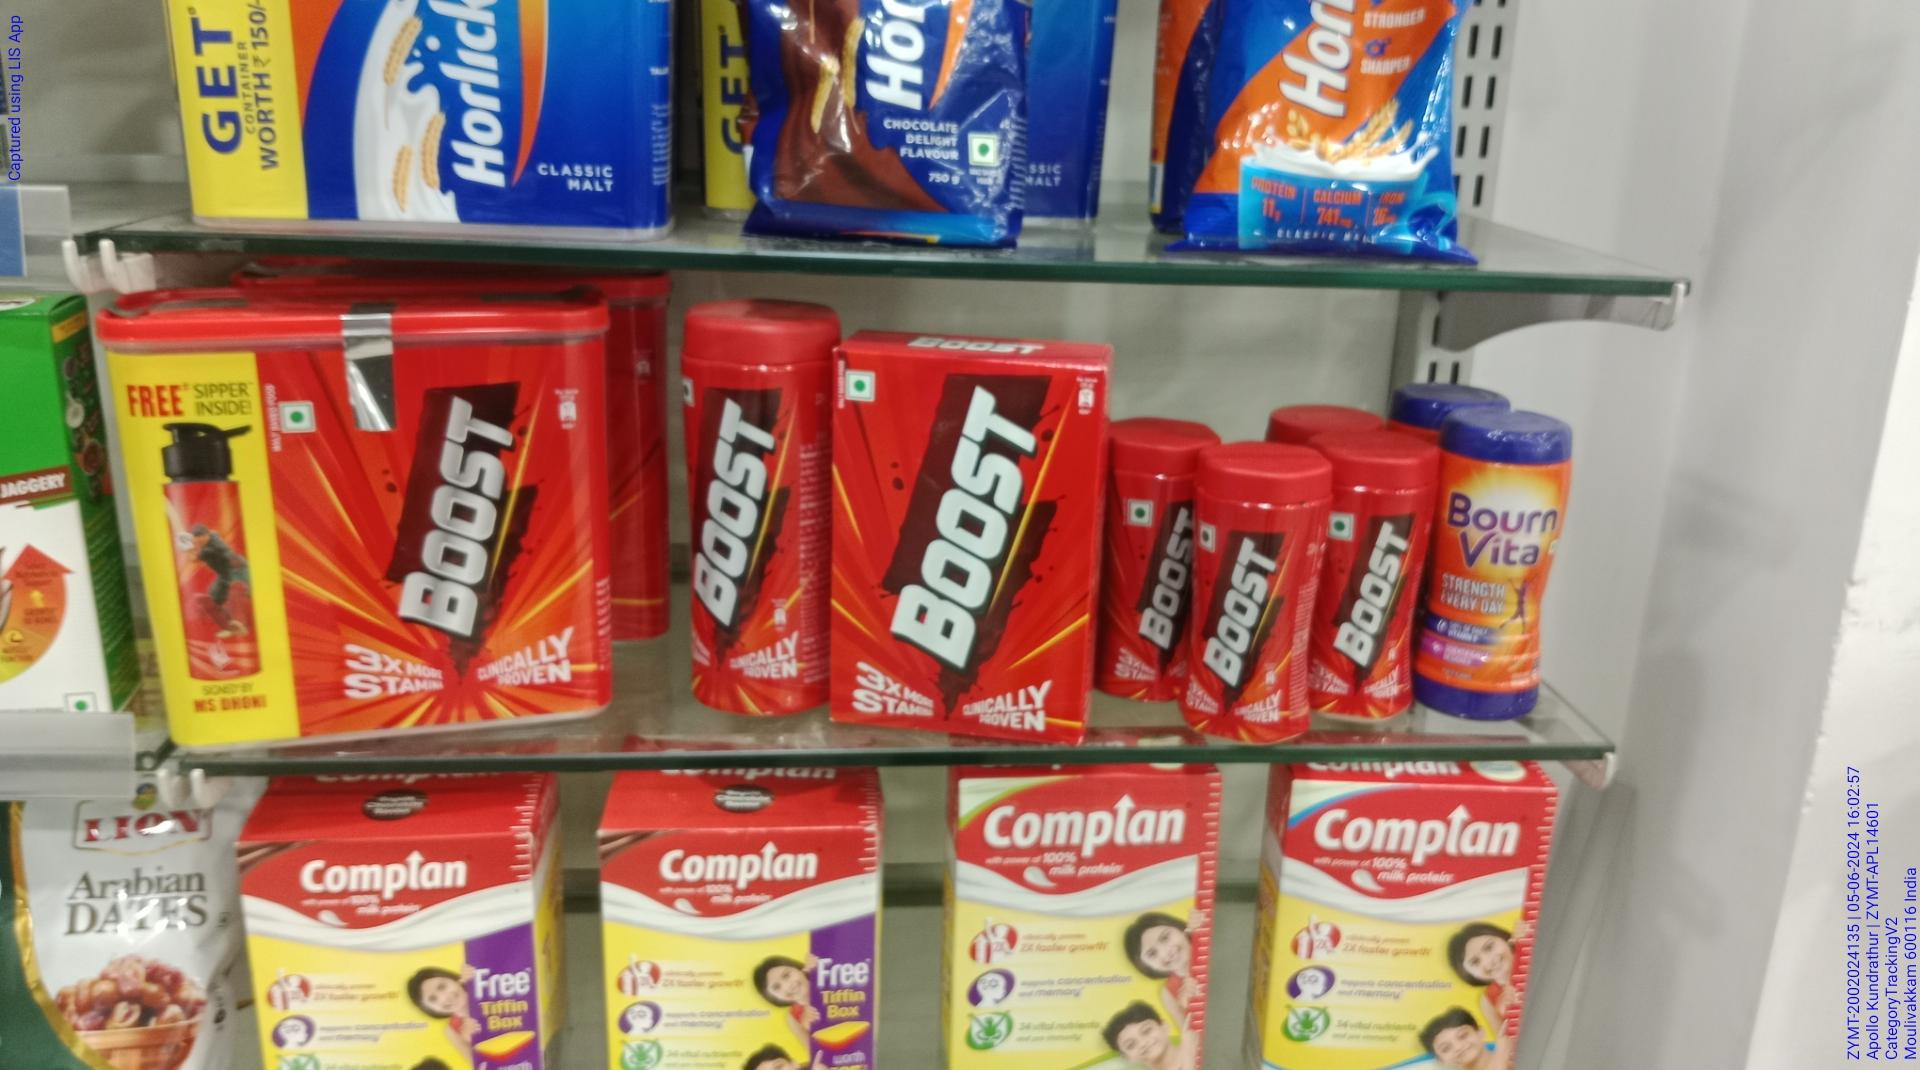BOURN_VITA_500_G_JAR: (1427, 399, 1556, 719)
COMPLAN_CHOCOLATE_500_GMS_PACK: (593, 813, 889, 1070), (248, 842, 540, 1070)
COMPLAN_CREAMY_CLASSIC_500_G_PACK: (1273, 774, 1523, 1070)
COMPLAN_PISTA_BADAM_500_GMS_PACK: (950, 768, 1219, 1070)
